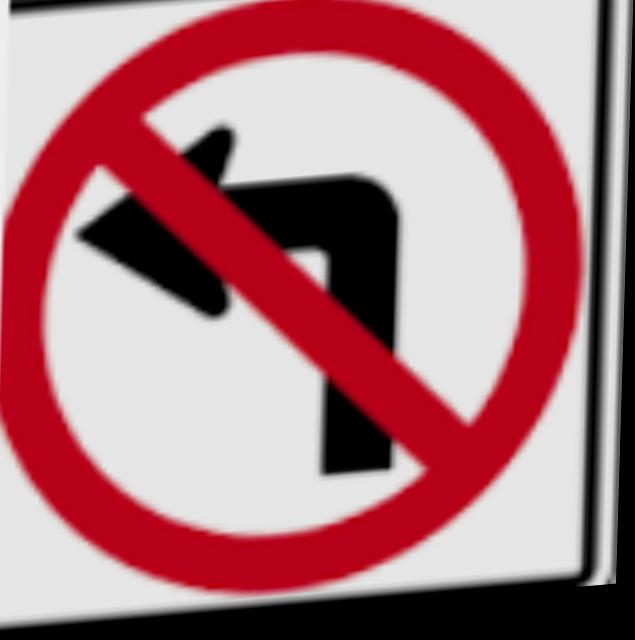not_turn_left: (1, 0, 595, 624)
